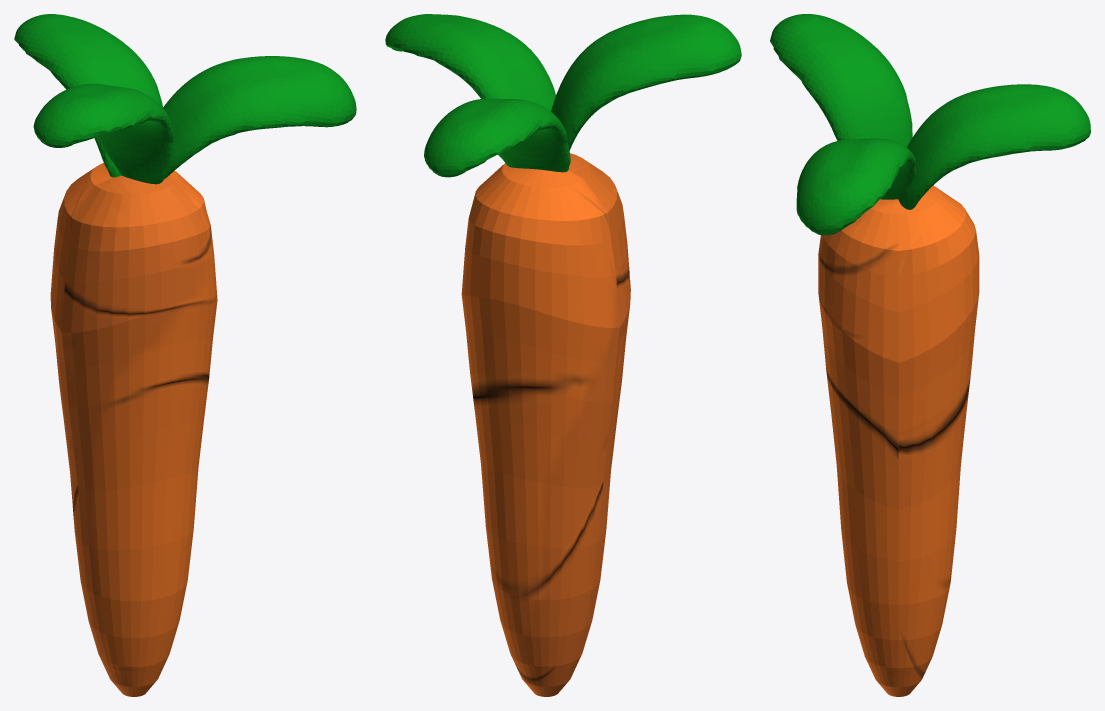
The model's file is Carrot.fbx.
3 views of the same model, side by side, from view 1: azimuth 30°, elevation 25°; view 2: azimuth 150°, elevation 25°; view 3: azimuth 270°, elevation 25° (orthographic). The views are drawn at different scales.
Visible parts, largest first — view 1: Carrot; view 2: Carrot; view 3: Carrot.
Part boxes in pixels (<box>): Carrot: <box>14,14,356,696</box>; Carrot: <box>385,14,741,696</box>; Carrot: <box>770,14,1090,696</box>.
Size of the model in its own units: 572 by 647 by 1243.
